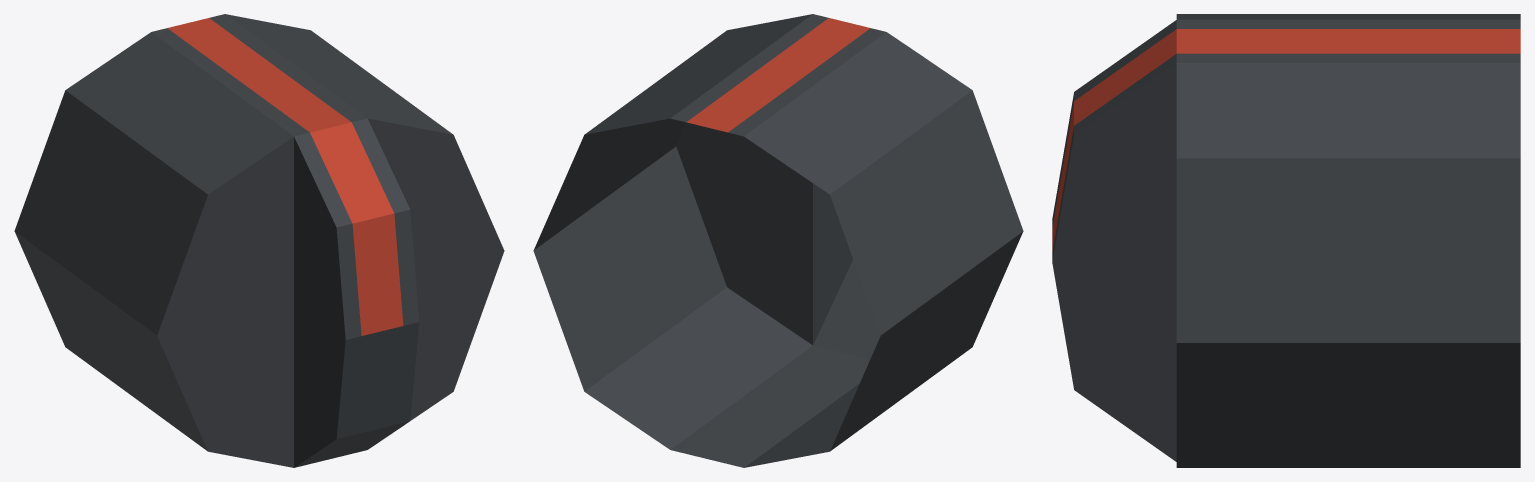
File: SM_Prop_Kitchen_Grill_01_Dial_01.obj
3 renders of one model, left to right at view 1: azimuth 30°, elevation 25°; view 2: azimuth 150°, elevation 25°; view 3: azimuth 270°, elevation 25°, orthographic. The views are drawn at different scales.
Parts seen in each view (by area): view 1: SM_Prop_Kitchen_Grill_01_Dial_01_0; view 2: SM_Prop_Kitchen_Grill_01_Dial_01_0; view 3: SM_Prop_Kitchen_Grill_01_Dial_01_0.
Part boxes in pixels (bbox=[...]): SM_Prop_Kitchen_Grill_01_Dial_01_0: bbox=[14, 14, 504, 467]; SM_Prop_Kitchen_Grill_01_Dial_01_0: bbox=[533, 14, 1023, 467]; SM_Prop_Kitchen_Grill_01_Dial_01_0: bbox=[1052, 14, 1520, 467].
Bounding box in the file's own units: 0.0906 × 0.0827 × 0.0879.
Materials: 1 (1 with a texture image).
